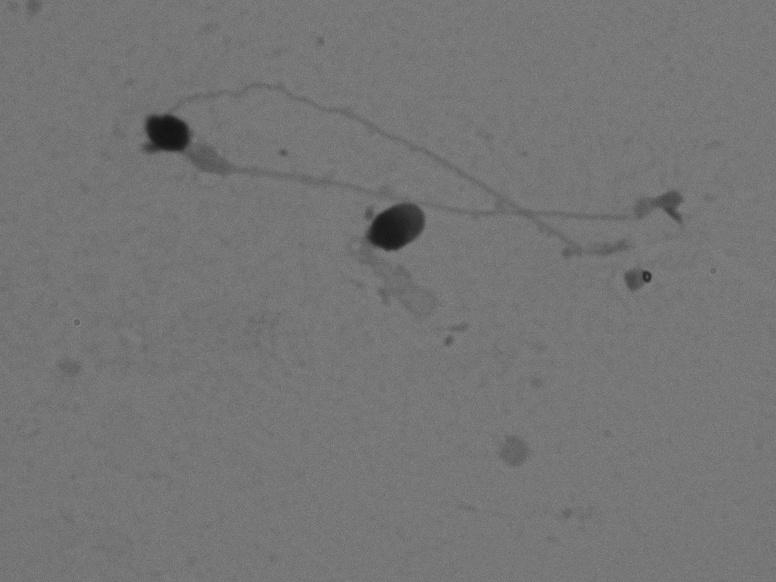Abnormal: (64, 98, 710, 268), (333, 189, 451, 336)
